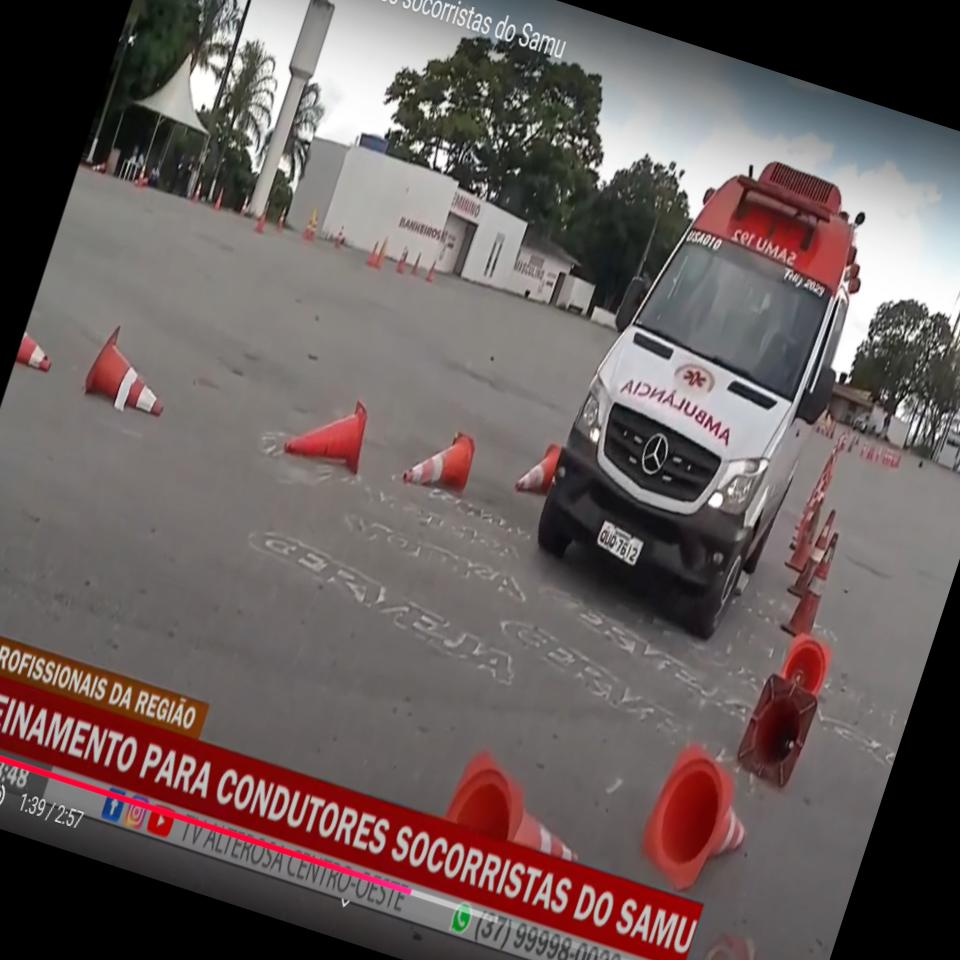bombeiro: (516, 121, 894, 654)
